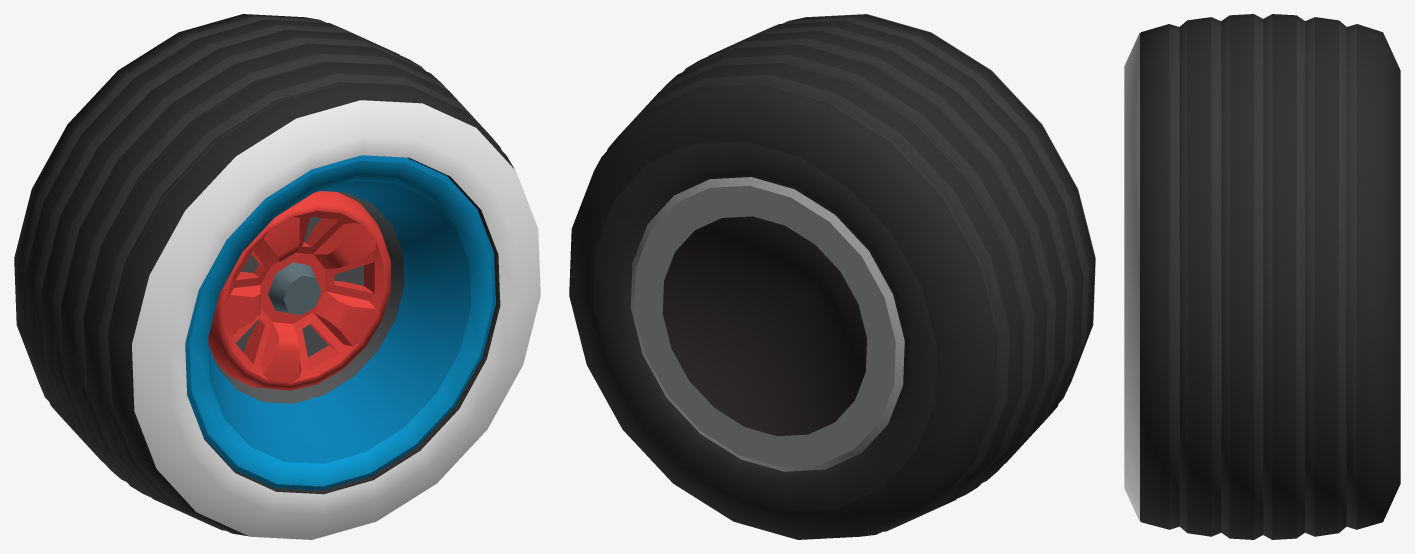
File: Wheel_09.fbx
3 views of the same model, side by side, from view 1: azimuth 30°, elevation 25°; view 2: azimuth 150°, elevation 25°; view 3: azimuth 270°, elevation 25° (orthographic). The views are drawn at different scales.
Visible parts, largest first — view 1: Wheel_09; view 2: Wheel_09; view 3: Wheel_09.
Part boxes in pixels (<box>): Wheel_09: <box>14,14,540,539</box>; Wheel_09: <box>569,14,1095,539</box>; Wheel_09: <box>1124,14,1400,539</box>.
Bounding box in the file's own units: 95 × 50.18 × 95.
